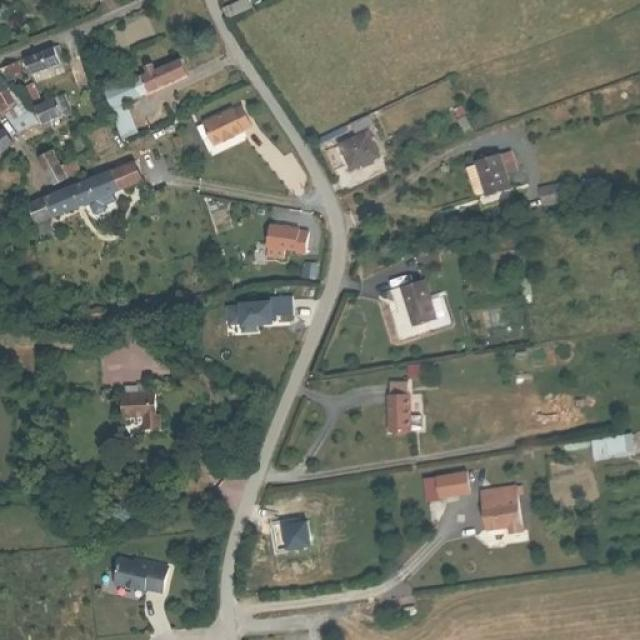ferme: (264, 510, 318, 560)
maison: (11, 151, 153, 228), (371, 266, 450, 337), (219, 278, 303, 339), (98, 542, 178, 606), (116, 50, 204, 99), (469, 136, 527, 201), (470, 478, 529, 537), (383, 366, 427, 437), (412, 460, 476, 508), (262, 206, 311, 262), (334, 125, 381, 177), (199, 104, 248, 142), (116, 399, 160, 435), (13, 74, 52, 104), (0, 65, 18, 116)
